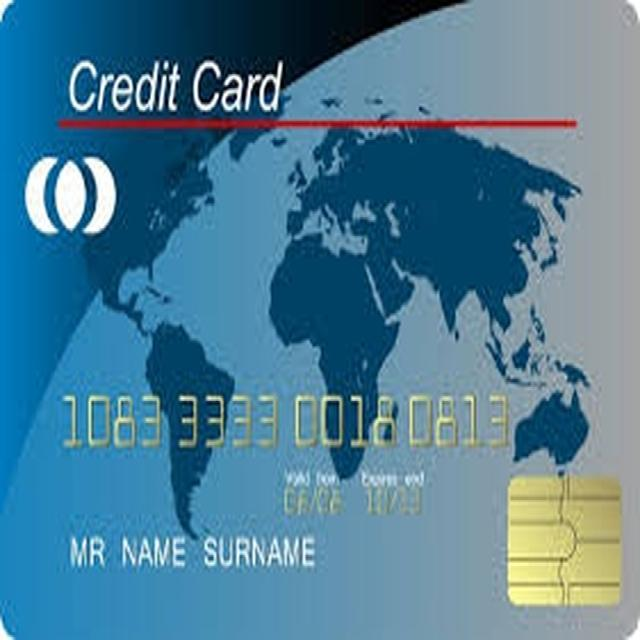card: (2, 33, 626, 635)
